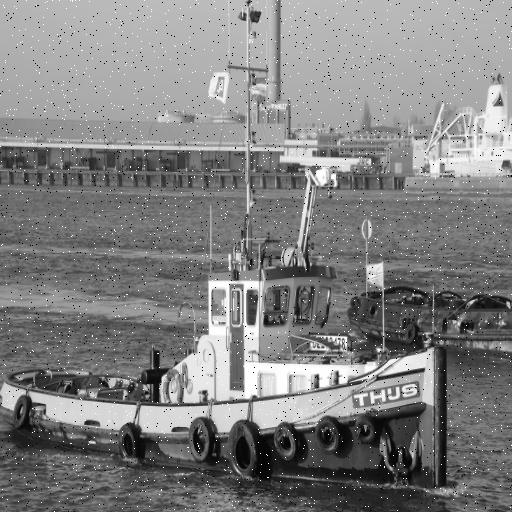tugboat: (1, 149, 454, 503)
